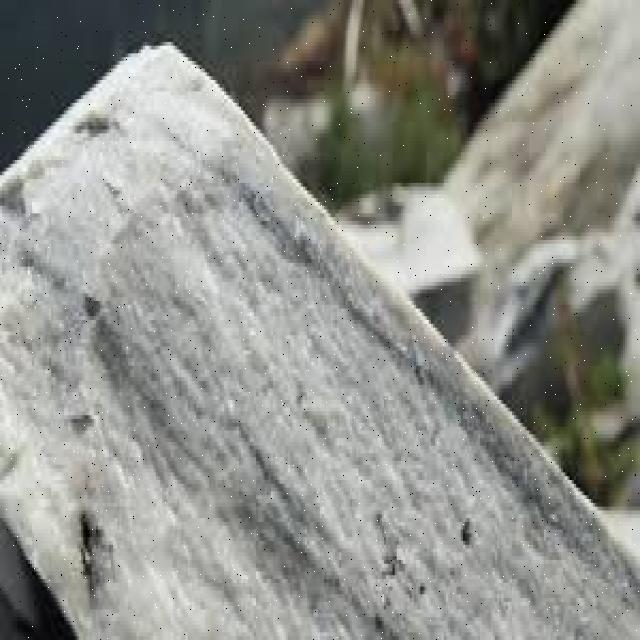Metamorphic: (4, 27, 640, 636)
